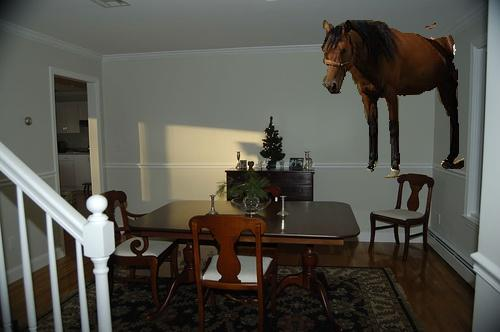tampered: (322, 21, 464, 178)
